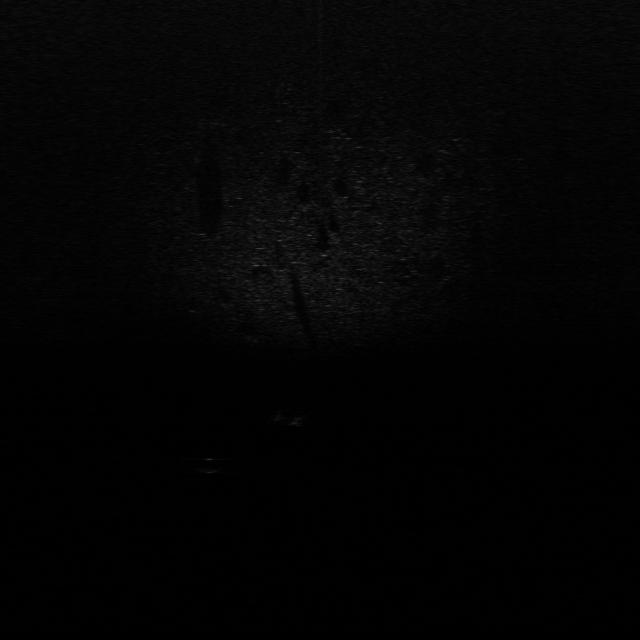ball: (194, 453, 227, 477)
human body: (272, 399, 318, 428)
